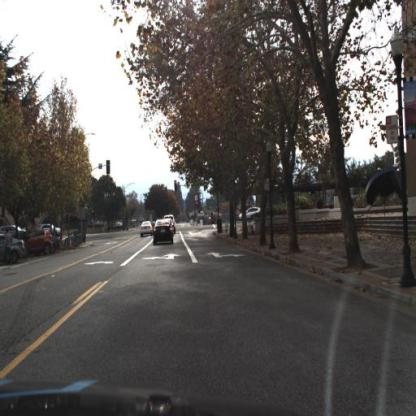car: (21, 227, 56, 258), (1, 230, 30, 267), (153, 217, 176, 247), (27, 233, 51, 254), (40, 222, 66, 240), (139, 219, 155, 240)
pedestrian: (5, 227, 15, 271)
trafficLight-Red: (174, 178, 180, 194), (174, 181, 178, 193)
